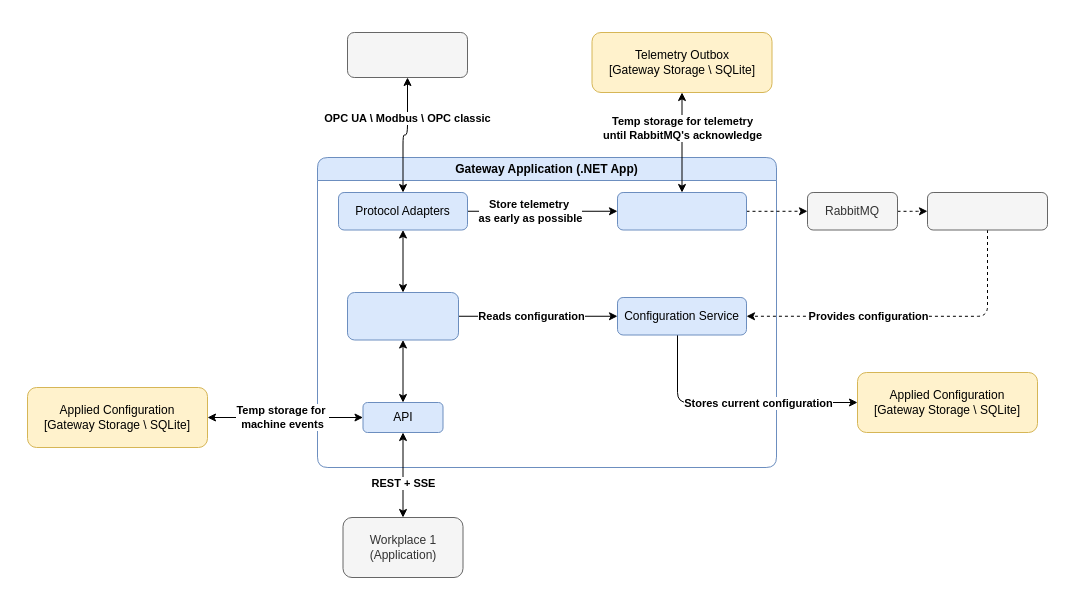
This 1084x614 diagram has some shape labels left out. Each missing label, with the box of its shape:
Central Panel: (926, 192, 1048, 230)
Industrial Machines: (346, 32, 468, 78)
Telemetry Service: (616, 192, 746, 230)
Worker (Core): (346, 292, 458, 340)
